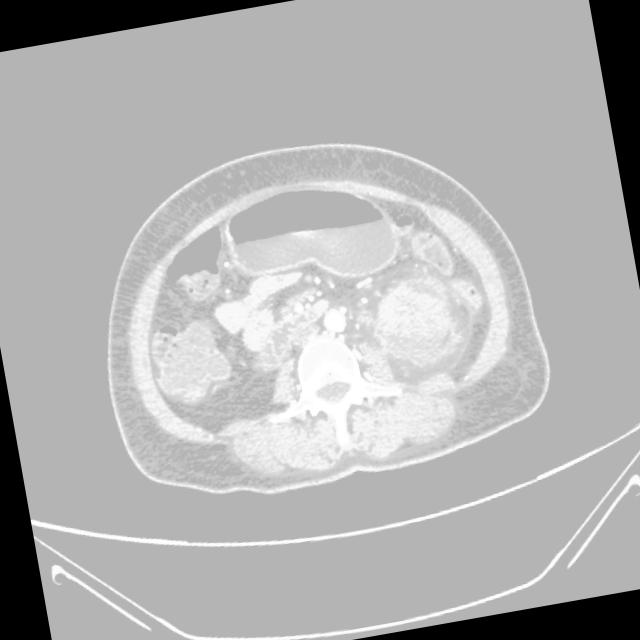TUMOR: (102, 185, 491, 423)
